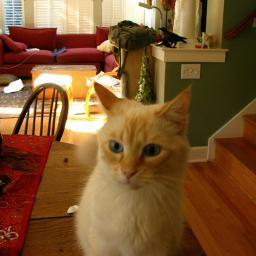catnose: (120, 163, 140, 182)
